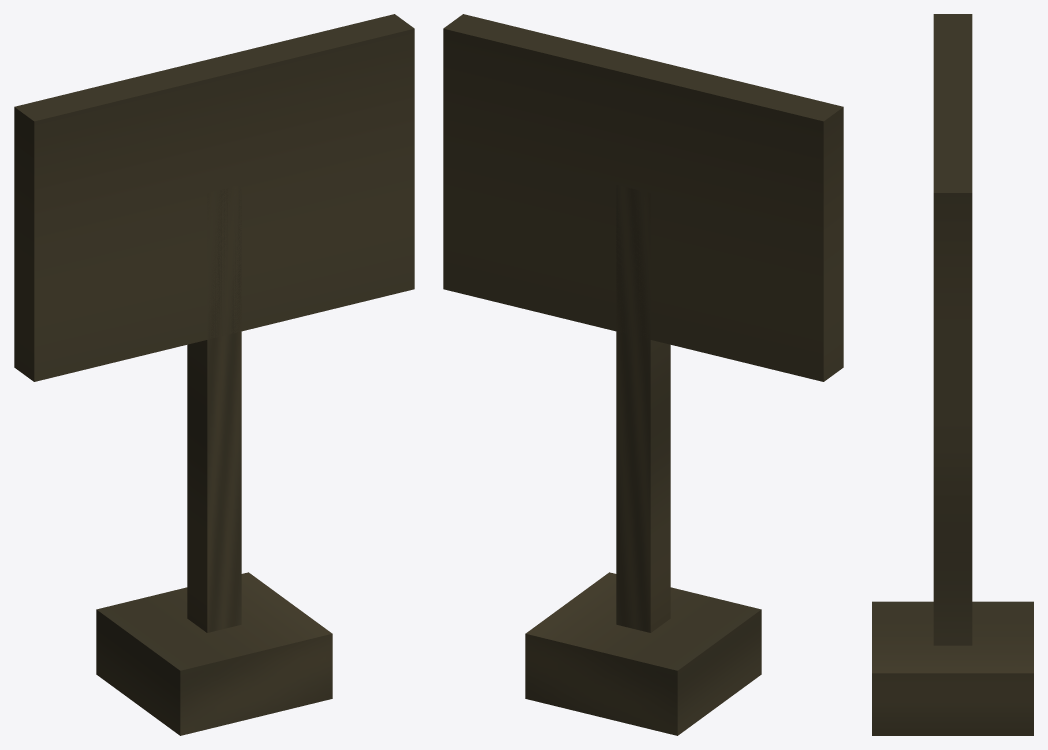
Rendered from prop_desert_milepost_sign_a.glb.
3 views of the same model, side by side, from view 1: azimuth 30°, elevation 25°; view 2: azimuth 150°, elevation 25°; view 3: azimuth 270°, elevation 25° (orthographic). The views are drawn at different scales.
Parts seen in each view (by area): view 1: prop_desert_milepost_sign_a; view 2: prop_desert_milepost_sign_a; view 3: prop_desert_milepost_sign_a.
Part boxes in pixels (bbox=[...]): prop_desert_milepost_sign_a: bbox=[14, 14, 414, 735]; prop_desert_milepost_sign_a: bbox=[443, 14, 843, 735]; prop_desert_milepost_sign_a: bbox=[872, 14, 1033, 735].
Size of the model in its own units: 1.1 by 1.77 by 0.42.
Materials: 1 (1 with a texture image).
